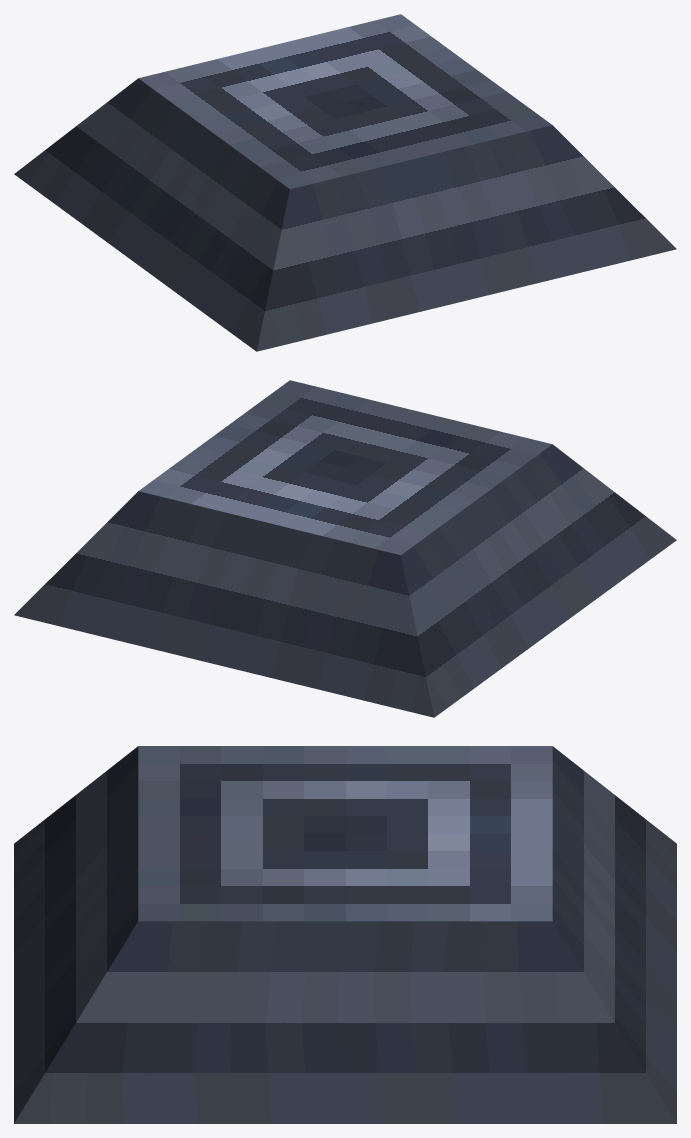
File: thruster.obj
3 views of the same model, one above another, from view 1: azimuth 30°, elevation 25°; view 2: azimuth 150°, elevation 25°; view 3: azimuth 270°, elevation 25° (orthographic). The views are drawn at different scales.
Parts seen in each view (by area): view 1: adjustment_thruster; view 2: adjustment_thruster; view 3: adjustment_thruster.
Boxes of the visible parts, left/top/right/bottom form: adjustment_thruster: left=14, top=14, right=676, bottom=351; adjustment_thruster: left=14, top=380, right=676, bottom=717; adjustment_thruster: left=14, top=746, right=676, bottom=1123.
Bounding box in the file's own units: 1 × 0.25 × 1.
